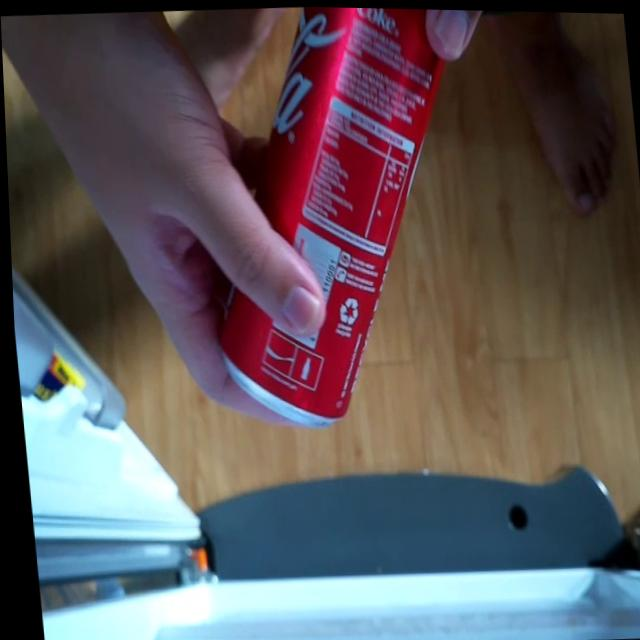coke: (184, 3, 478, 436)
